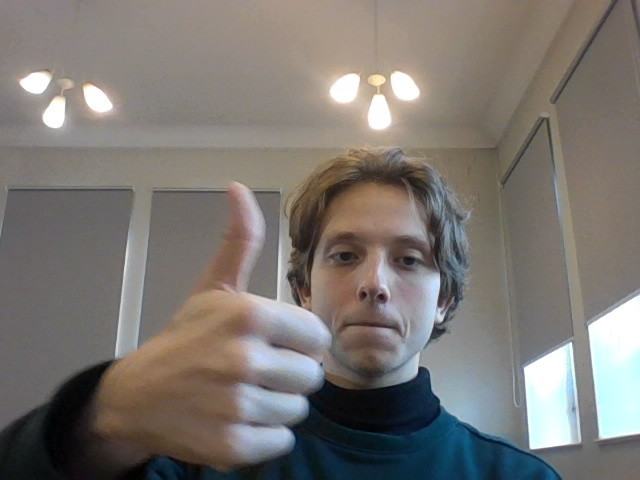thank you: (131, 183, 335, 470)
